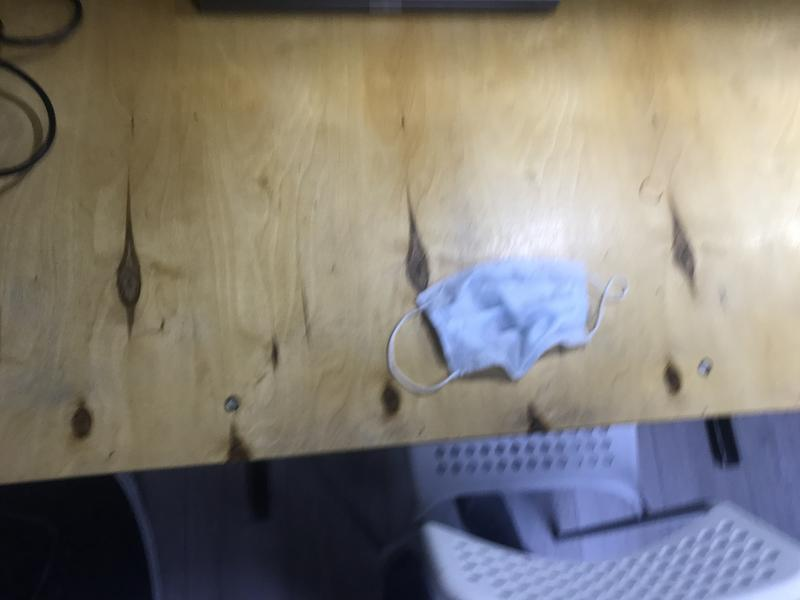medical_mask: (387, 262, 628, 395)
